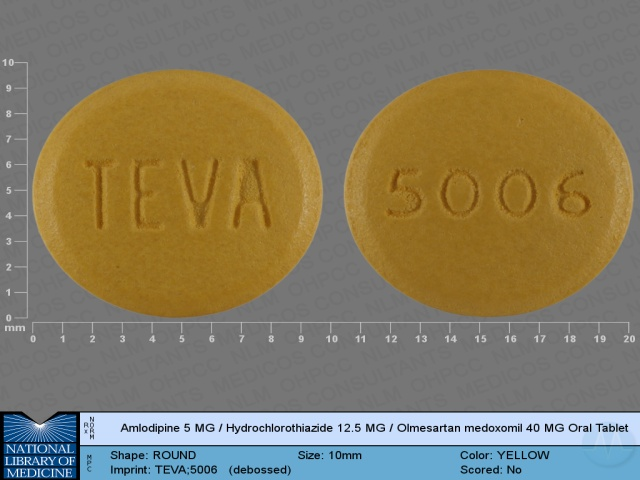0: (497, 169, 540, 222), (439, 167, 480, 219)
5: (382, 166, 425, 223)
6: (555, 169, 593, 220)
A: (229, 154, 274, 233)
E: (131, 153, 163, 236)
T: (83, 156, 114, 236)
V: (177, 155, 222, 233)
